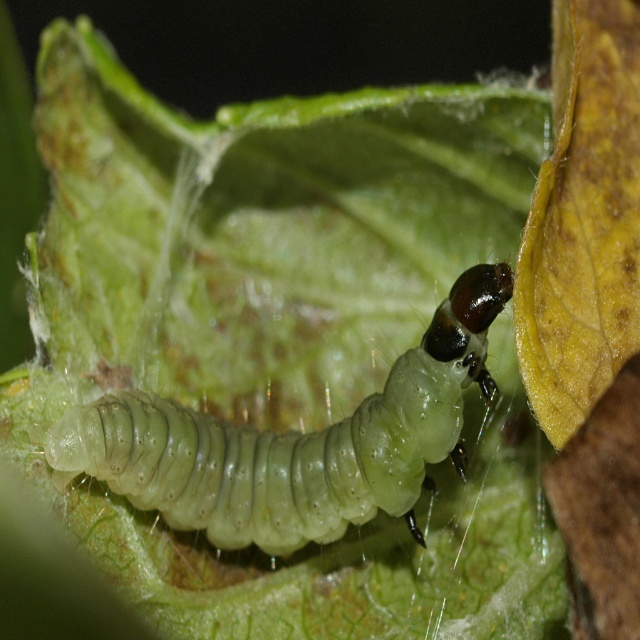Caterpillar: (41, 255, 518, 573)
